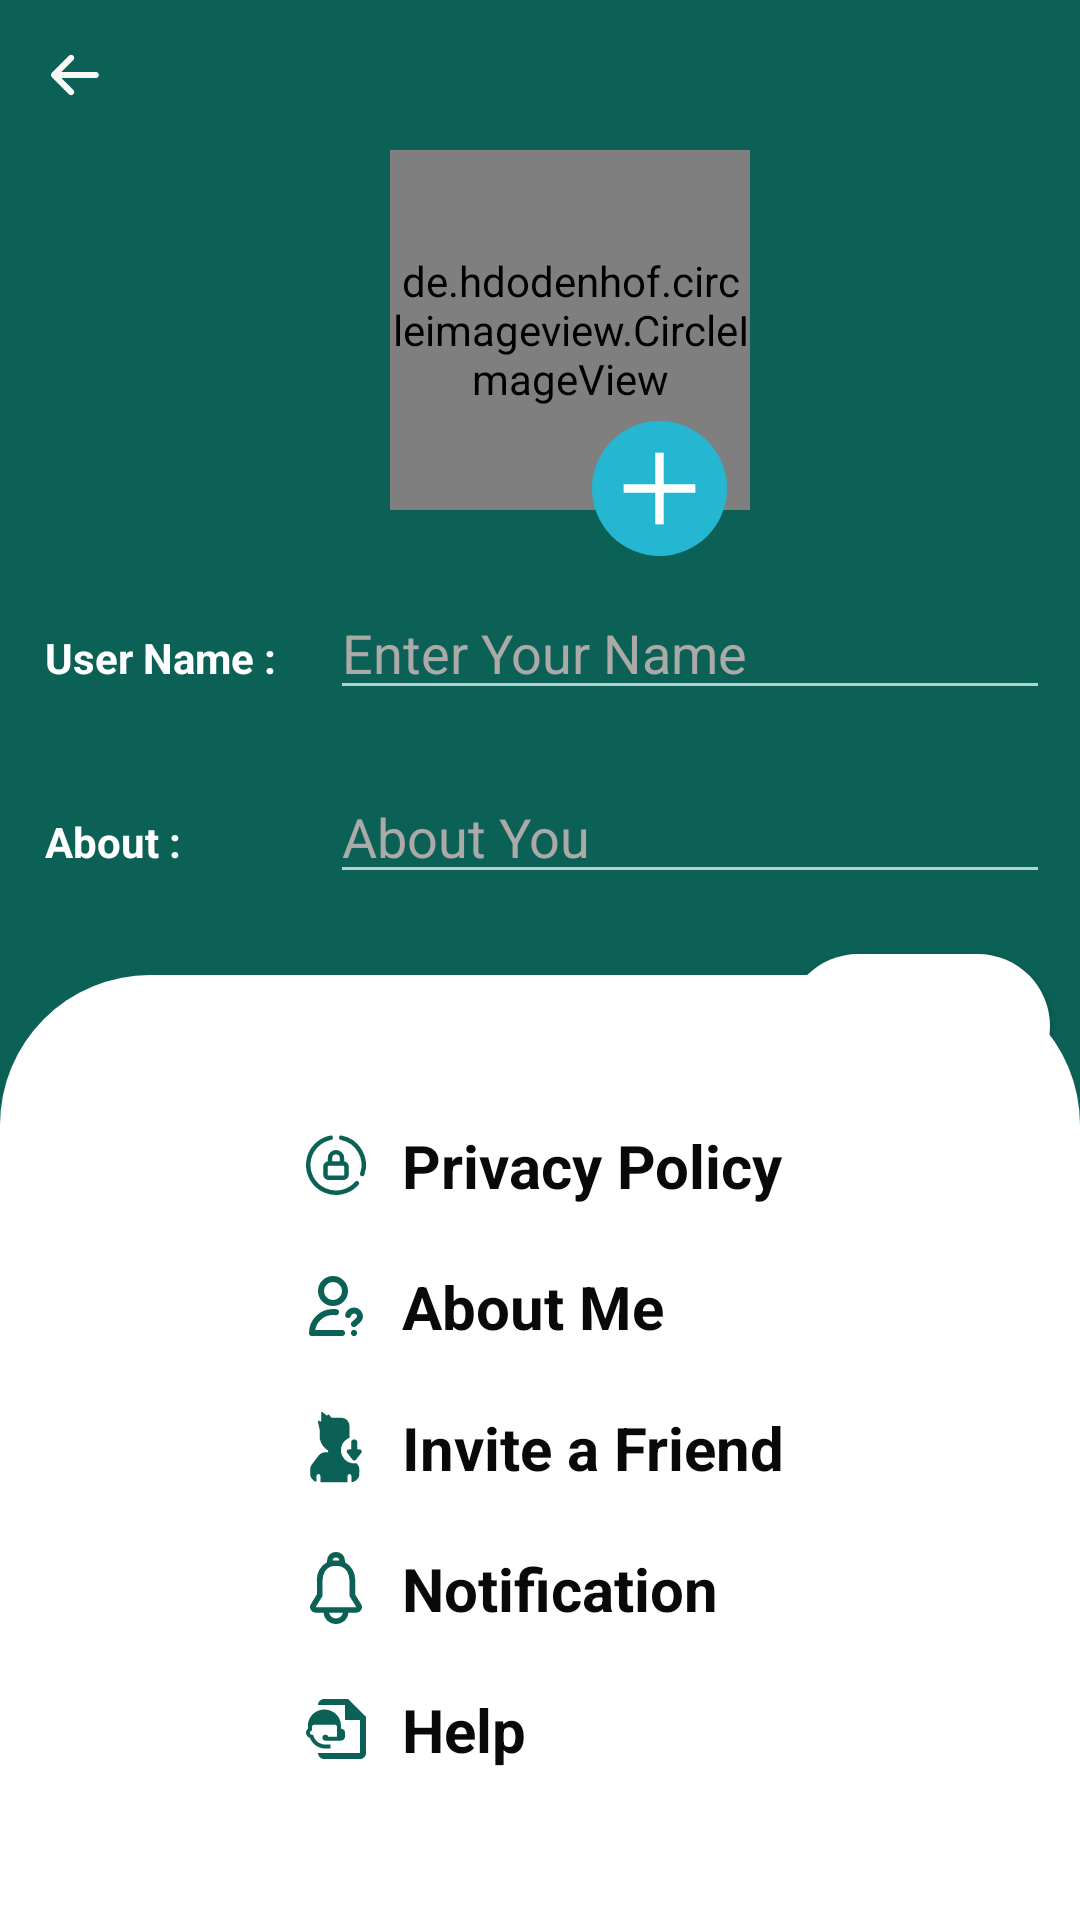

Where to tap for icons on this 1080 × 1920 app screen, as [x,y]:
back: [75,75]
plus: [659,488]
